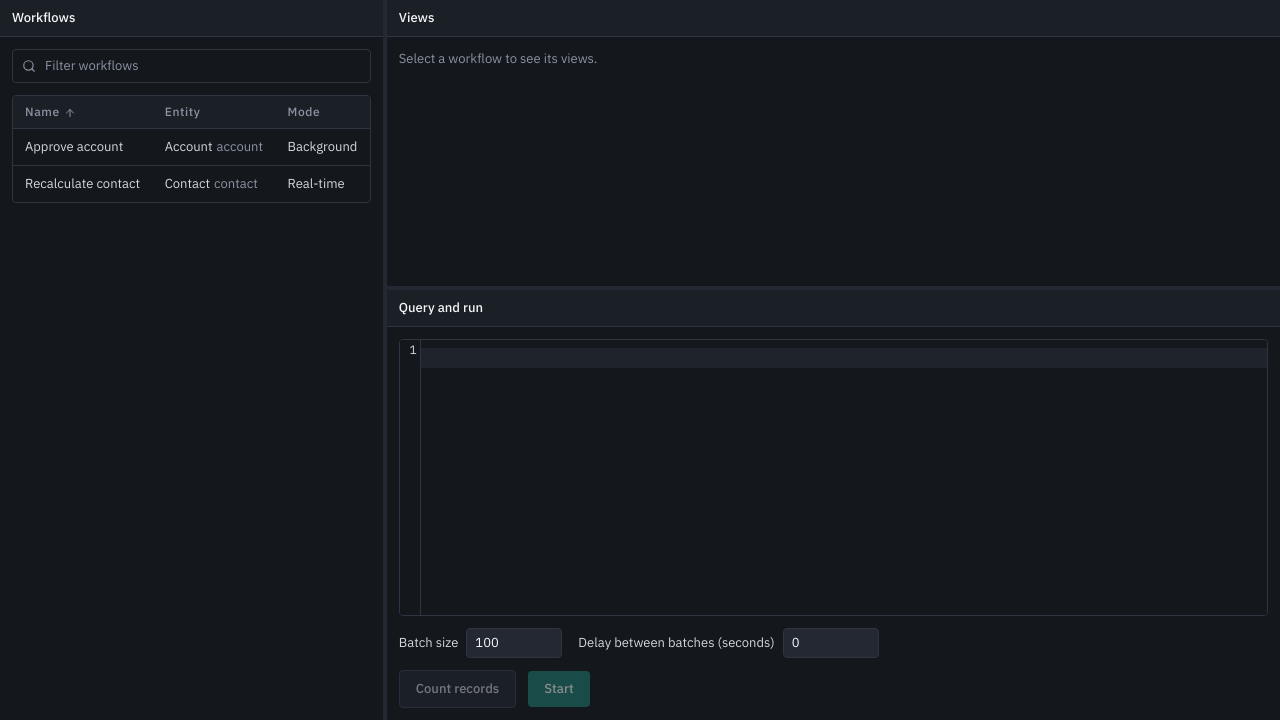
Test: Bulk Workflow Execution › confirms the start with the run details and warns for large runs
The image size is (1280, 720).
Click the text "Approve account": (83, 147) left=13, top=128, right=153, bottom=166
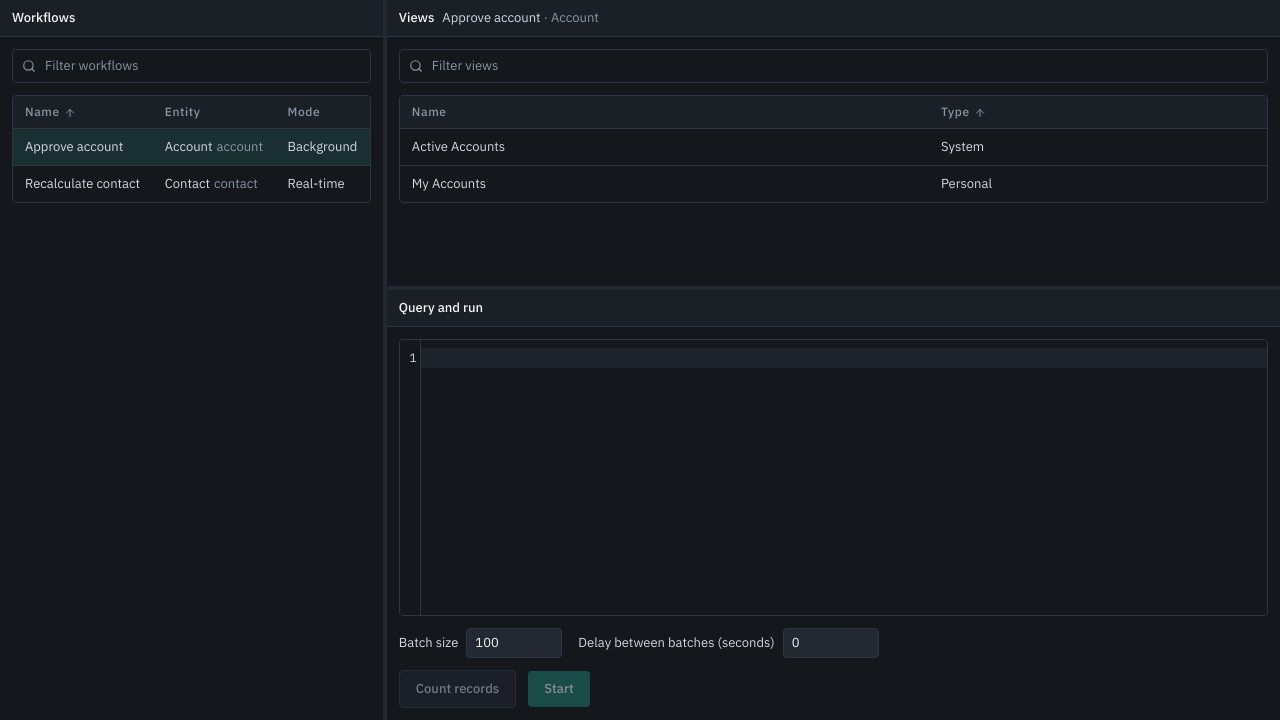
Click the text "Active Accounts": (458, 146) left=400, top=128, right=929, bottom=166
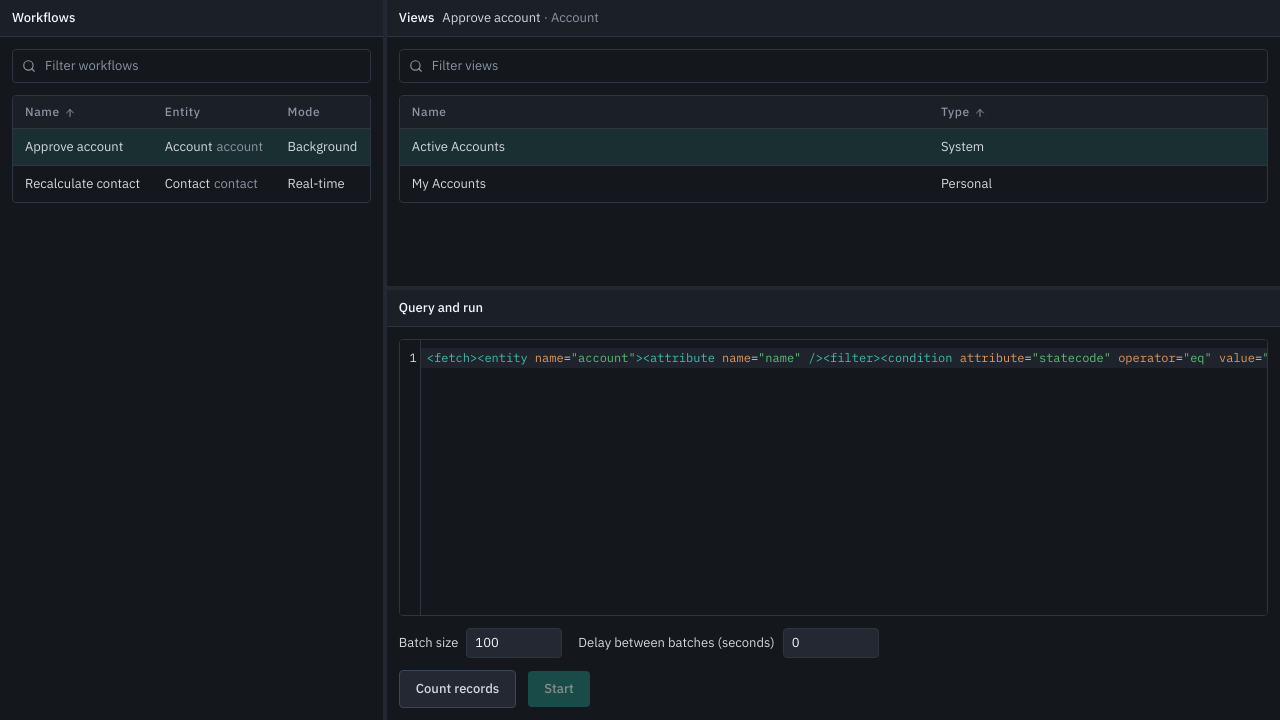
Click the button "Count records": (458, 689) left=399, top=670, right=516, bottom=708
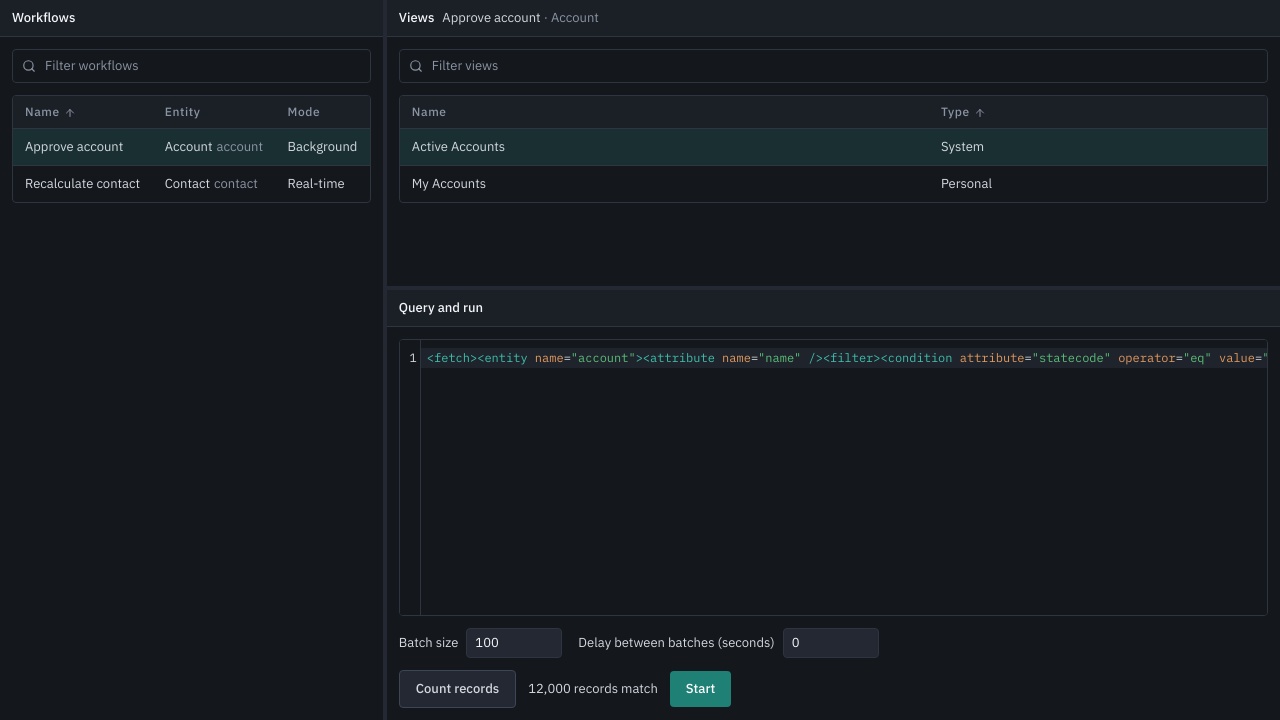
Expected: the text "12,000 records match" is shown, left=528, top=679, right=658, bottom=699
Click the button "Start": (700, 689) left=670, top=671, right=731, bottom=707
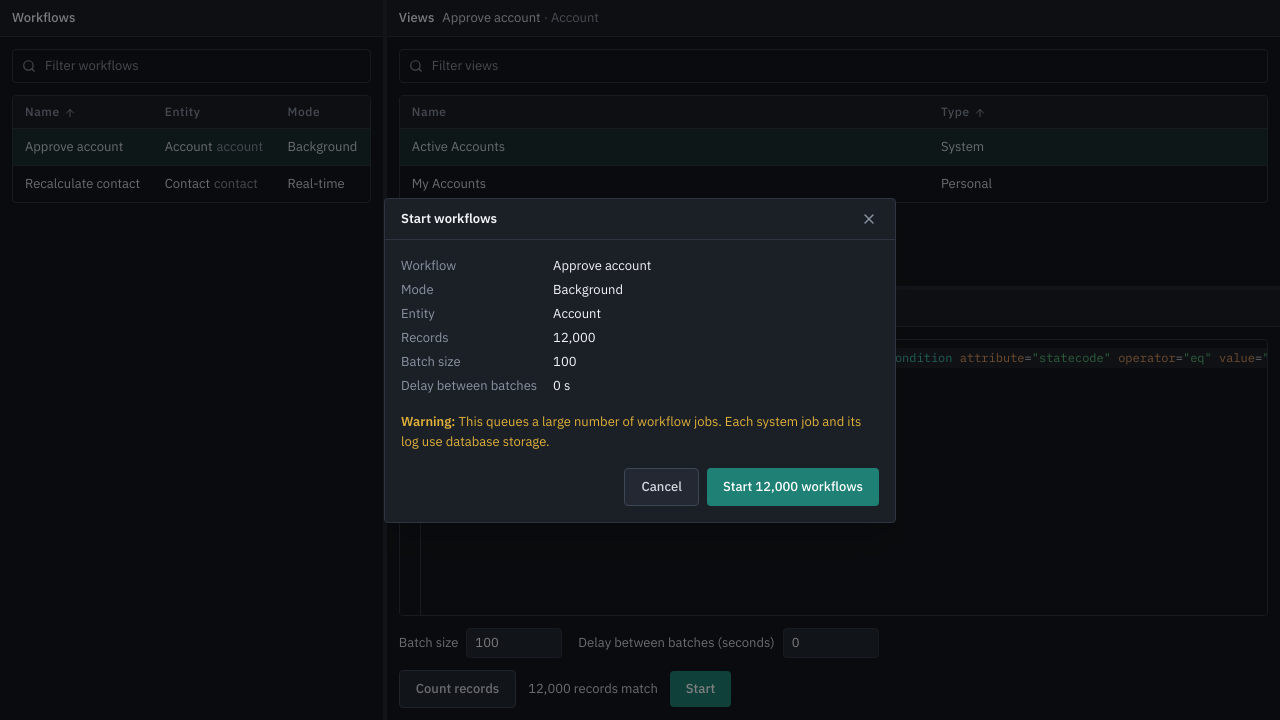
Expected: the heading "Start workflows" is shown, left=401, top=208, right=497, bottom=228
Expected: the text "Approve account" is shown, left=553, top=256, right=651, bottom=274
Expected: the text "Background" is shown, left=553, top=280, right=623, bottom=298
Click the button "Cancel": (662, 486) left=624, top=468, right=699, bottom=506
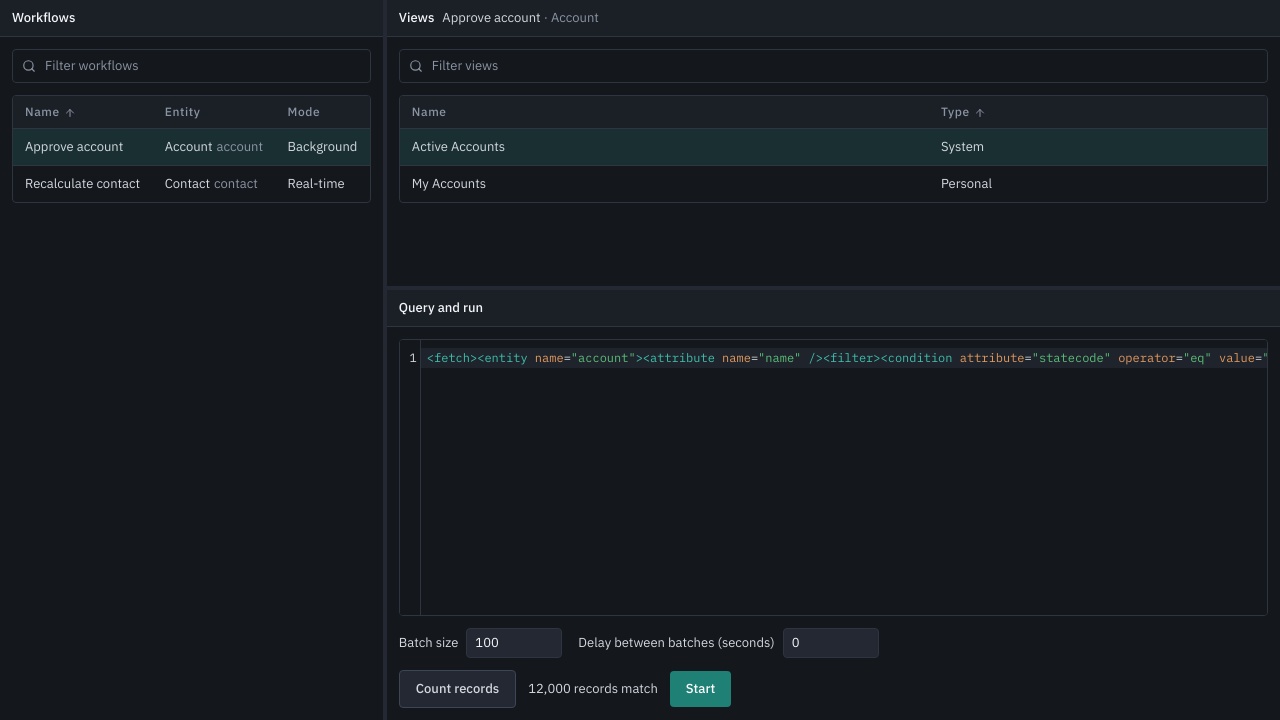
Expected: the heading "Start workflows" is gone
